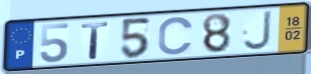5: (119, 15, 153, 61), (38, 22, 70, 64)
8: (201, 12, 233, 55)
C: (157, 15, 196, 57)
J: (241, 9, 273, 52)
T: (80, 20, 112, 61)
